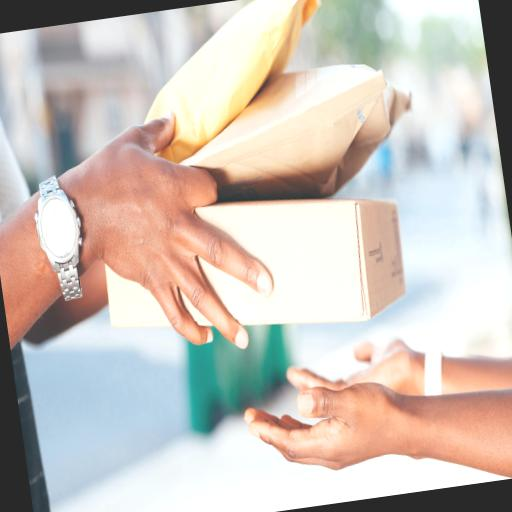Gloves: (65, 100, 259, 366), (238, 359, 416, 486)
